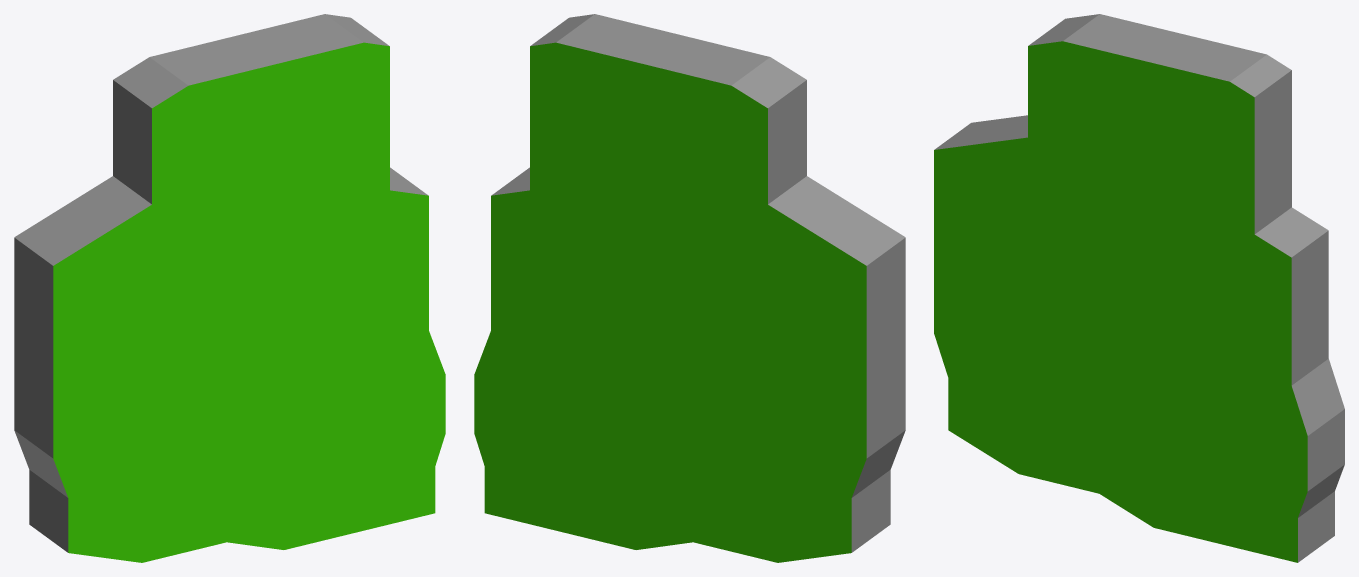
File: SMB_groundL_A.fbx
The picture shows the model from 3 angles, left to right: view 1: azimuth 30°, elevation 25°; view 2: azimuth 150°, elevation 25°; view 3: azimuth 330°, elevation 25°; orthographic projection. The views are drawn at different scales.
Visible parts, largest first — view 1: SMB_groundL_A; view 2: SMB_groundL_A; view 3: SMB_groundL_A.
Part boxes in pixels (bbox=[...]): SMB_groundL_A: bbox=[14, 14, 445, 562]; SMB_groundL_A: bbox=[474, 14, 905, 562]; SMB_groundL_A: bbox=[934, 14, 1344, 562].
Bounding box in the file's own units: 20068 × 23842 × 3459.
